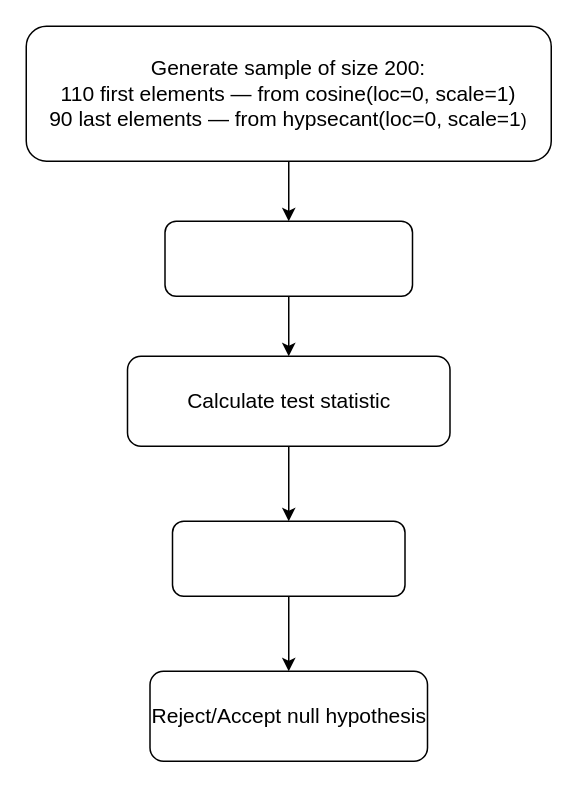
Image size: 578x788. Some labels were removed from this diagram. Each missing label, with the centre of its shape:
"Build empirical bridge of the sample" belongs at (288,258).
"Calculate p-value" belongs at (288,558).
